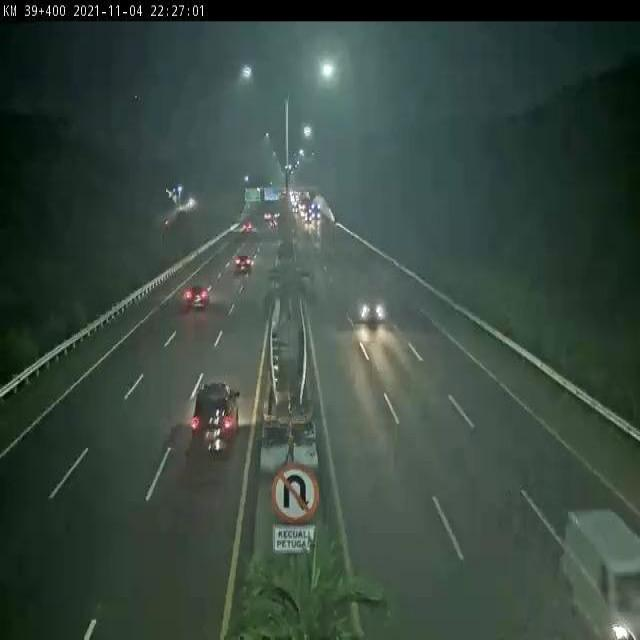car: (192, 377, 239, 455), (358, 287, 387, 324), (181, 280, 212, 311)
